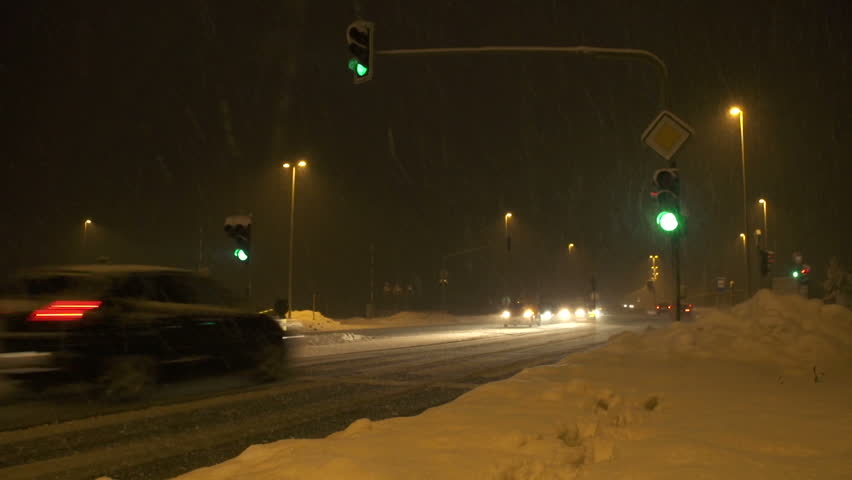go: (345, 21, 373, 84), (654, 167, 679, 236), (234, 220, 252, 266)
